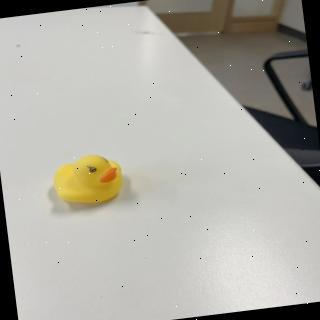duck_regular: (51, 151, 129, 209)
